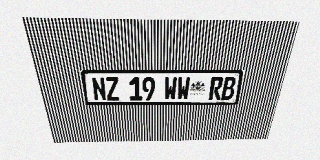1: (128, 77, 142, 100)
9: (142, 77, 155, 100)
B: (221, 77, 237, 100)
N: (91, 77, 107, 101)
R: (208, 77, 224, 100)
W: (164, 77, 177, 100), (177, 77, 190, 100)
Z: (105, 77, 120, 101)
